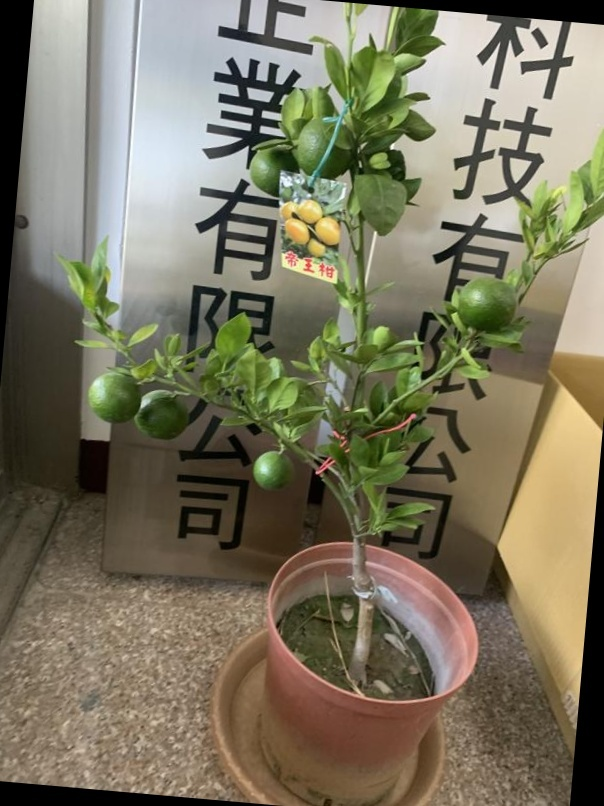Tangerine: (455, 274, 517, 338), (296, 112, 348, 178), (85, 366, 140, 423), (136, 385, 187, 443), (253, 144, 302, 201), (249, 447, 298, 493)
